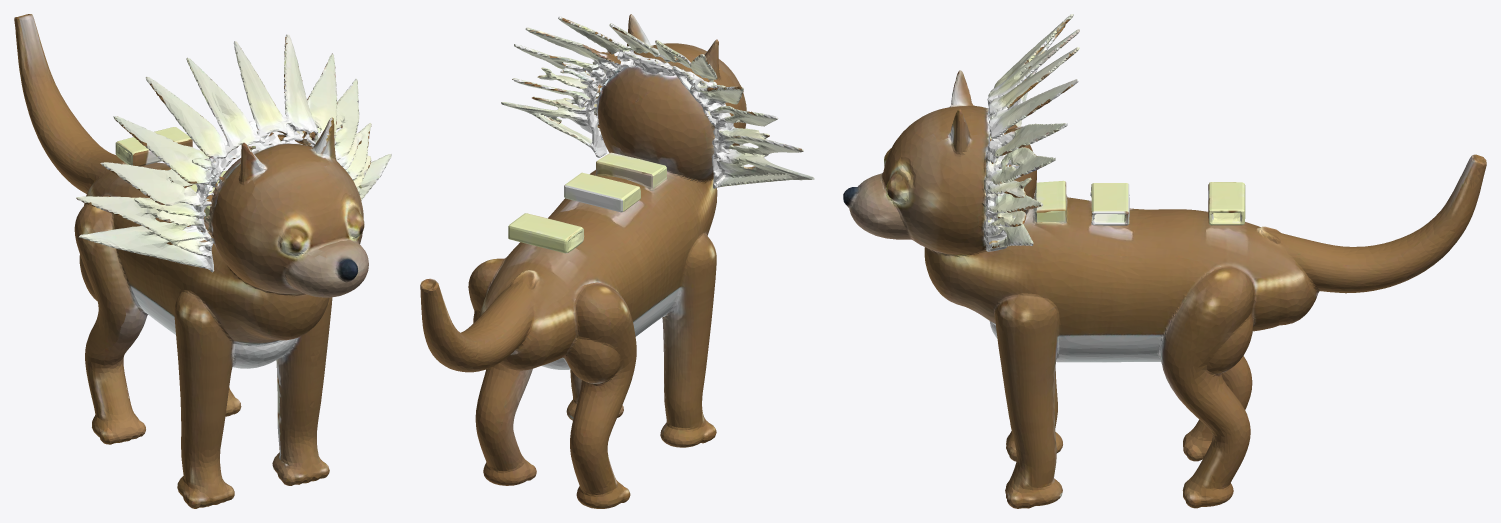
Rendered from creature-105.glb.
The picture shows the model from 3 angles, left to right: view 1: azimuth 30°, elevation 25°; view 2: azimuth 150°, elevation 25°; view 3: azimuth 270°, elevation 25°; orthographic projection. The views are drawn at different scales.
Parts seen in each view (by area): view 1: tmpqawhgpm3.ply; view 2: tmpqawhgpm3.ply; view 3: tmpqawhgpm3.ply.
Part boxes in pixels (x1,y1,x2,y2): tmpqawhgpm3.ply: [14, 14, 391, 508]; tmpqawhgpm3.ply: [420, 14, 814, 508]; tmpqawhgpm3.ply: [843, 14, 1486, 508].
Bounding box in the file's own units: 1.14 × 1.48 × 1.99.
1 material, 1 textured.
